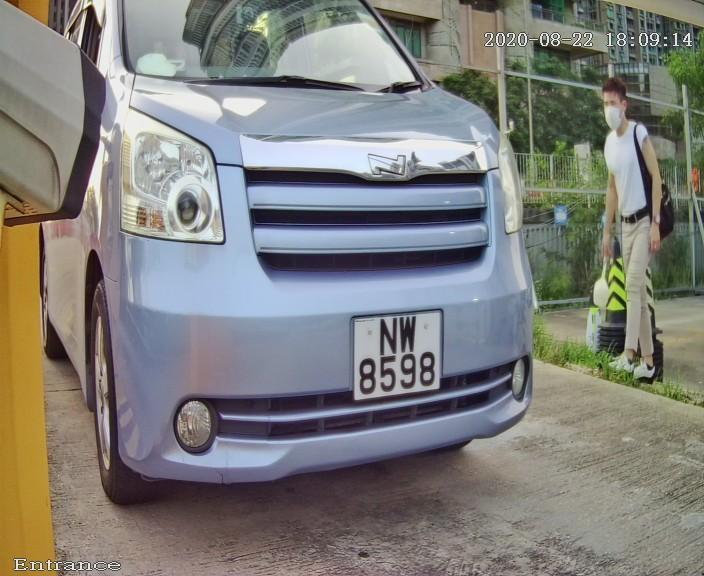Car: (38, 1, 582, 525)
License Plate: (340, 304, 453, 415)
